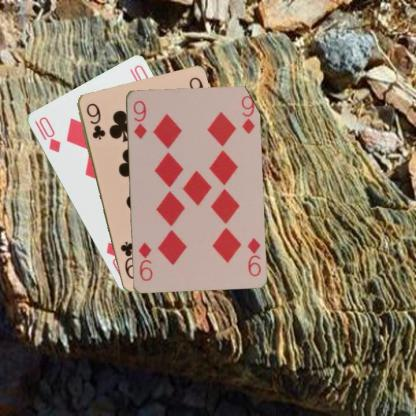10d: (32, 114, 62, 154)
9c: (84, 100, 106, 141)
9d: (244, 235, 262, 278), (130, 98, 147, 140)
